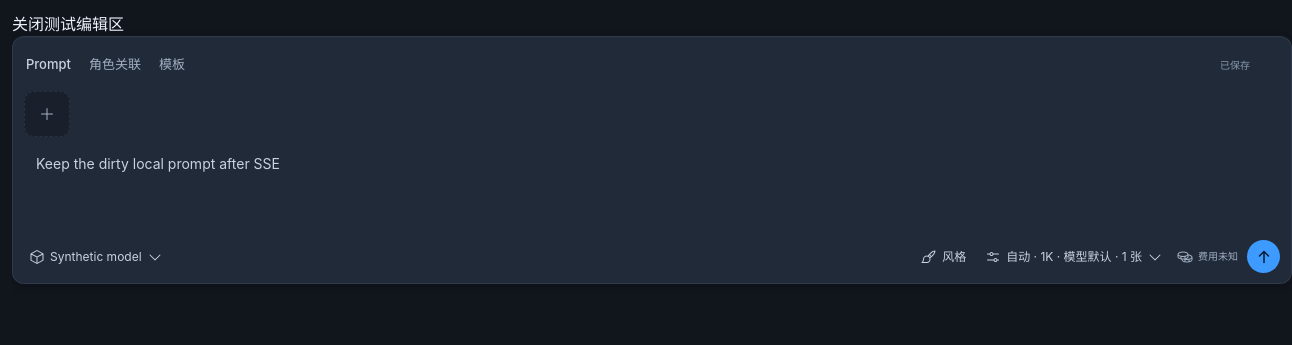
media draft persistence boundaries › keeps dirty input and its original CAS when a media-draft event refreshes the server cache
Clear the field named "图片提示词". click: (158, 164)
box: [36, 155, 280, 172]
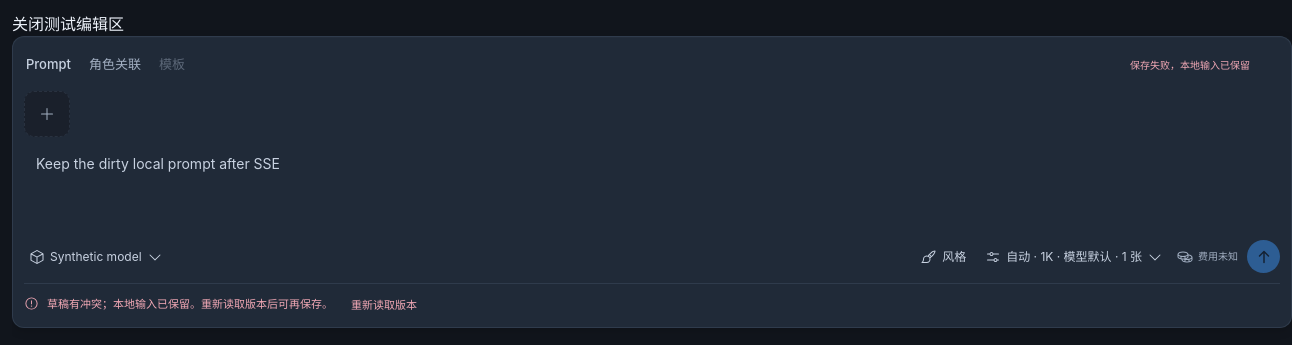
Now the button "重新读取版本" is shown
Click the button "重新读取版本". click: (384, 305)
box: [343, 293, 425, 317]
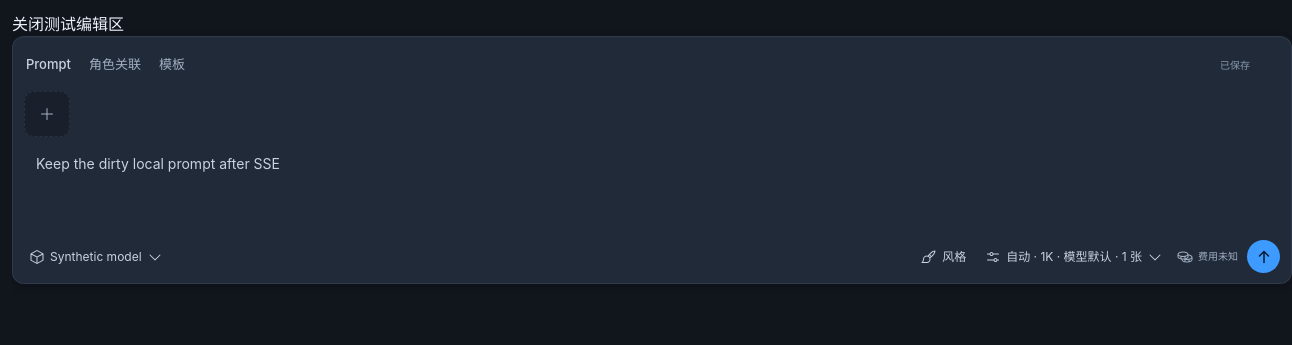
Now the text "已保存" is shown, box [1220, 58, 1250, 70]
